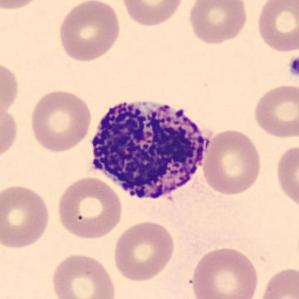Basophil: (83, 90, 214, 207)
Platelets: (286, 55, 299, 79)
RBC: (54, 174, 124, 242), (27, 87, 94, 154), (110, 218, 177, 284), (55, 0, 123, 64), (201, 127, 263, 197), (188, 244, 261, 299), (0, 182, 52, 250), (48, 251, 118, 299), (186, 0, 250, 46), (251, 82, 298, 140), (254, 0, 298, 54), (118, 0, 186, 28), (273, 142, 298, 211), (255, 264, 298, 299), (0, 99, 20, 164), (0, 57, 21, 118), (0, 0, 46, 12)
